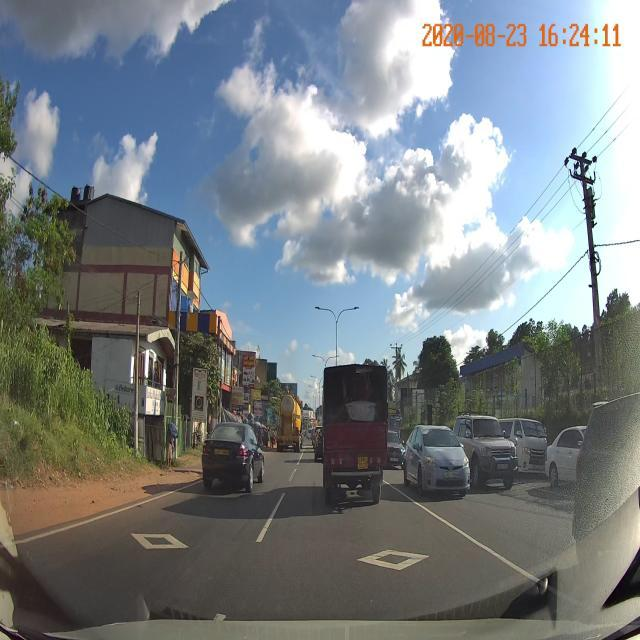diamond: (229, 527, 551, 588)
